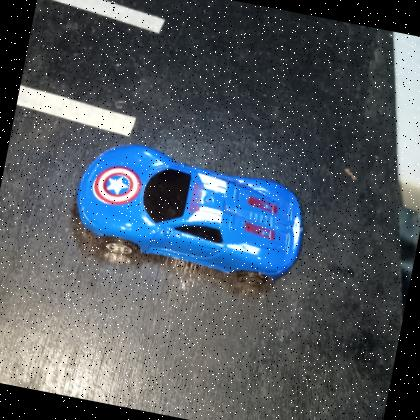Car: (64, 134, 314, 294)
